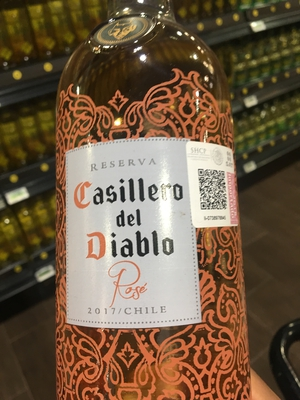casillero del diablo rose: (46, 12, 256, 400)
